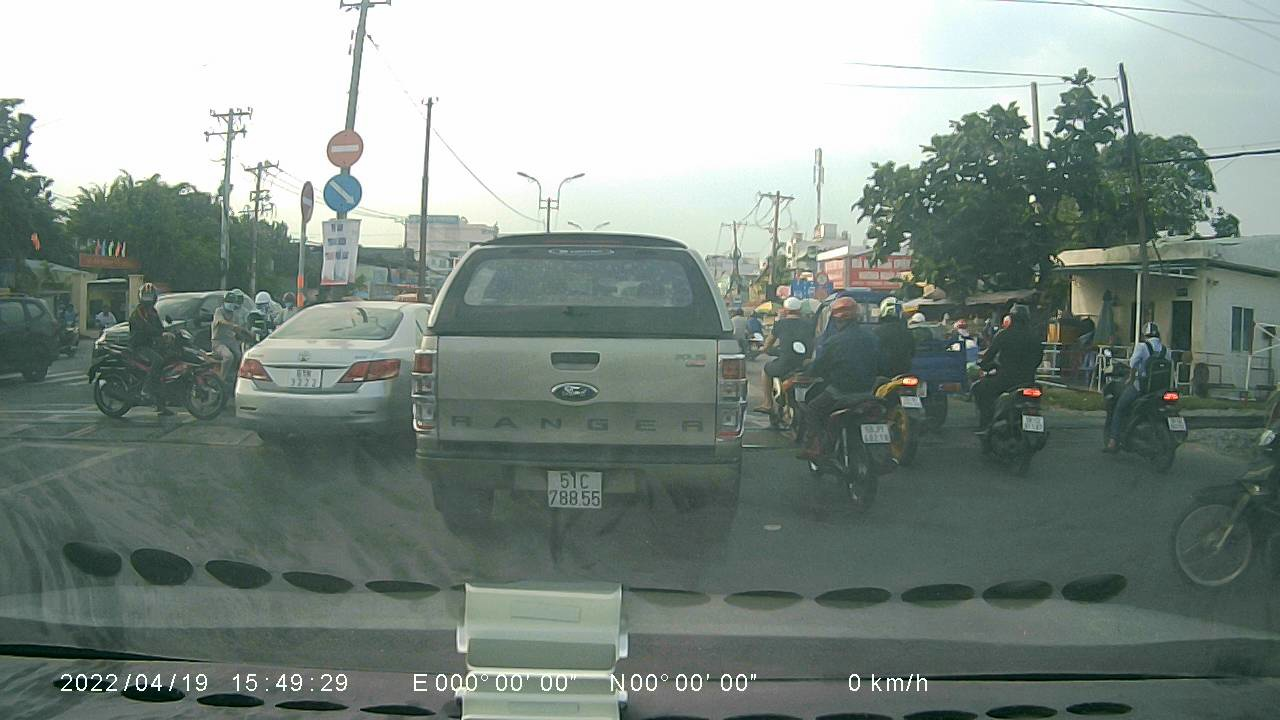Cam di nguoc chieu: (323, 126, 369, 170)
Huong di phai re phai: (318, 173, 365, 213)
